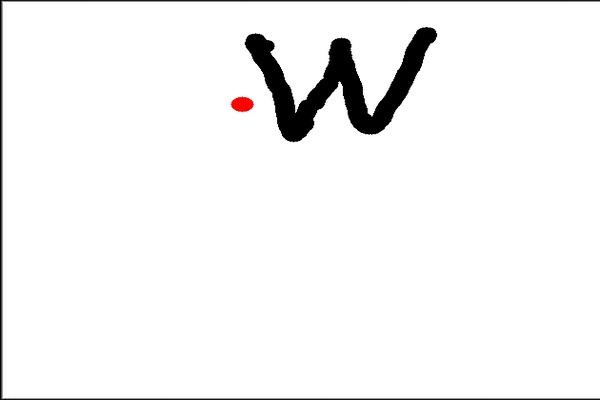w: (242, 16, 450, 157)
